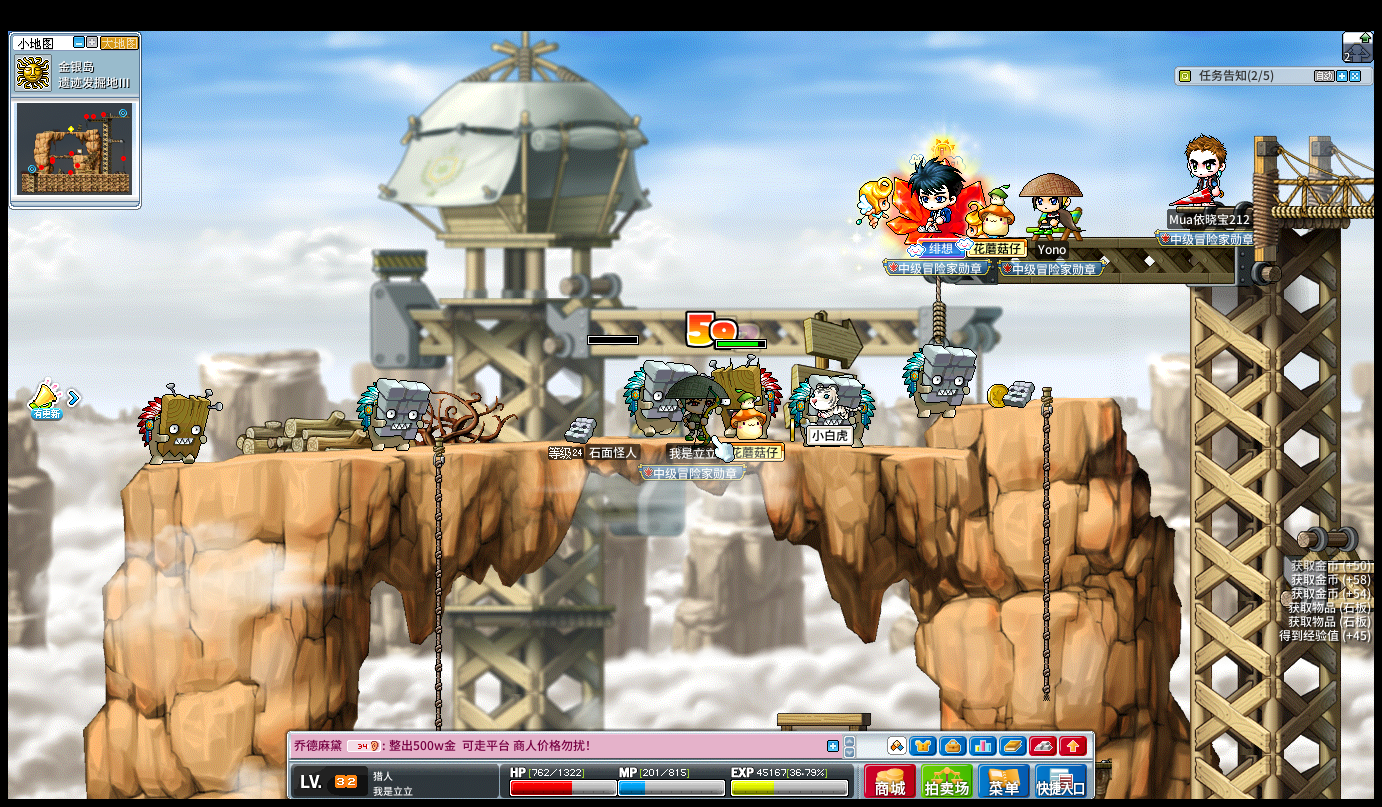floor: (146, 431, 986, 458), (968, 391, 1121, 408)
monster: (901, 342, 975, 445), (137, 385, 218, 465), (790, 373, 876, 447), (357, 378, 430, 452), (621, 359, 687, 438), (710, 357, 781, 424), (839, 376, 876, 448)
rope: (1038, 386, 1053, 704), (431, 434, 444, 774), (429, 435, 443, 731)
